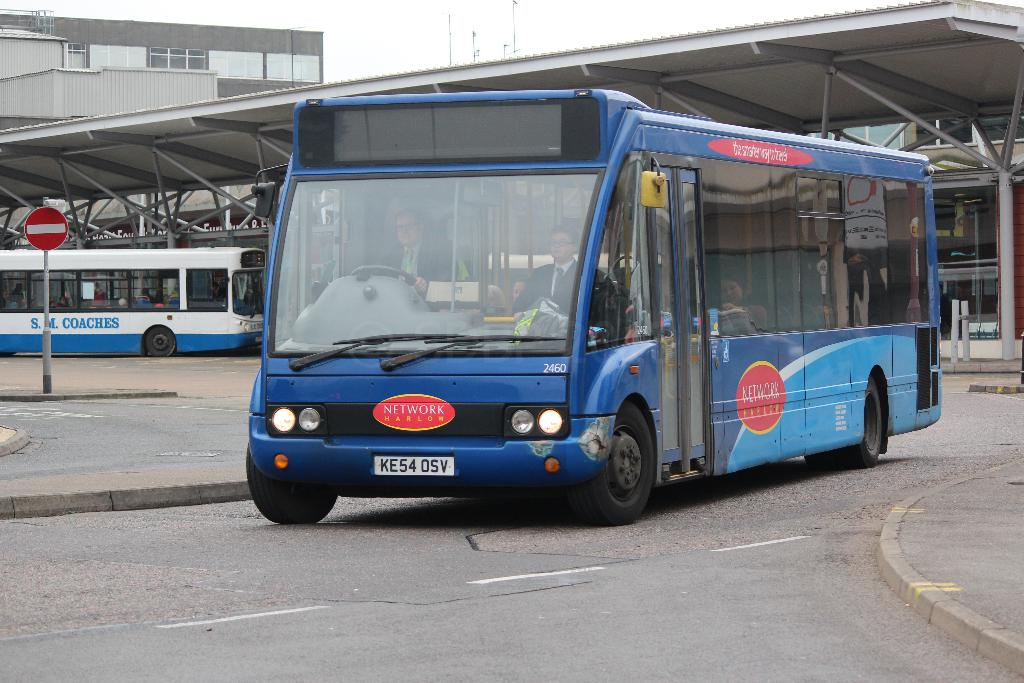Bus: (237, 89, 945, 520), (0, 242, 267, 358)
